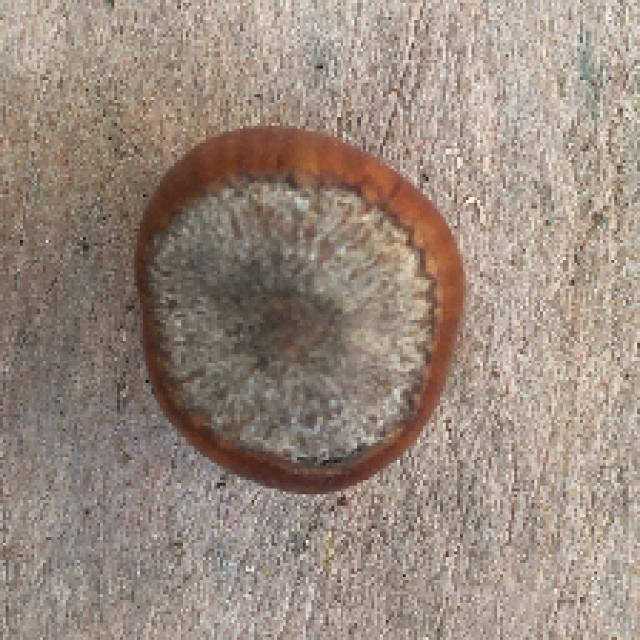qualityHazelnut: (118, 123, 474, 505)
